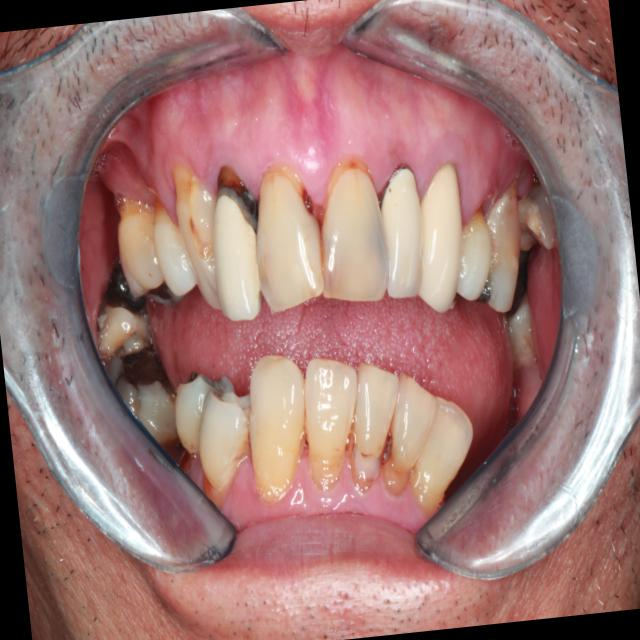tooth: (297, 122, 402, 325), (236, 138, 344, 323), (233, 337, 319, 514), (401, 141, 480, 331), (156, 143, 238, 326), (285, 336, 372, 507), (199, 149, 273, 334), (361, 141, 434, 319), (373, 351, 450, 515), (397, 375, 483, 514), (341, 341, 412, 495), (103, 337, 189, 459), (474, 163, 536, 327), (82, 248, 166, 366), (100, 179, 172, 312), (191, 377, 261, 509), (138, 182, 208, 310), (166, 360, 244, 466), (448, 192, 502, 317), (503, 152, 559, 262), (494, 279, 549, 379)
